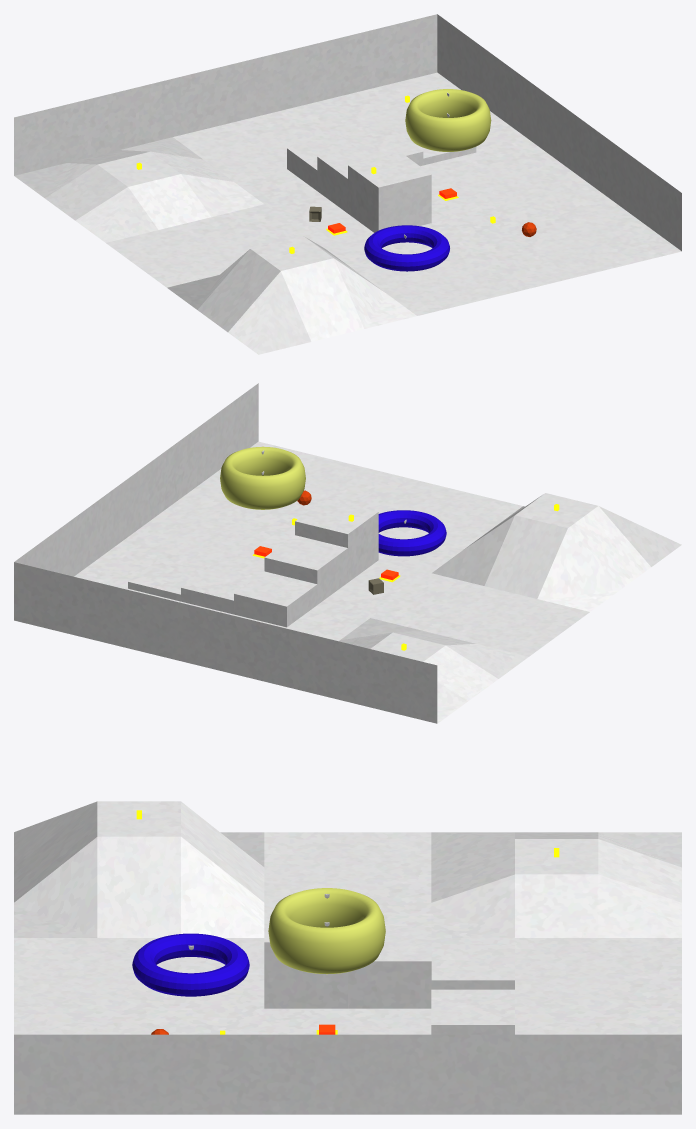
Rendered from map.gltf.
3 renders of one model, top to bottom at view 1: azimuth 30°, elevation 25°; view 2: azimuth 150°, elevation 25°; view 3: azimuth 270°, elevation 25°, orthographic. The views are drawn at different scales.
Parts seen in each view (by area): view 1: BumpyFloor, Torus.002, Torus; view 2: BumpyFloor, Torus.002, Torus; view 3: BumpyFloor, Torus.002, Torus.
Boxes of the visible parts, x1,y1,x2,y2 form: BumpyFloor: [14, 14, 681, 354]; Torus.002: [405, 89, 491, 151]; Torus: [364, 225, 449, 271]; BumpyFloor: [14, 383, 681, 723]; Torus.002: [220, 446, 305, 509]; Torus: [378, 510, 446, 556]; BumpyFloor: [14, 801, 681, 1114]; Torus.002: [268, 888, 385, 974]; Torus: [132, 933, 249, 996].
Size of the model in its own units: 64 by 15.08 by 64.
